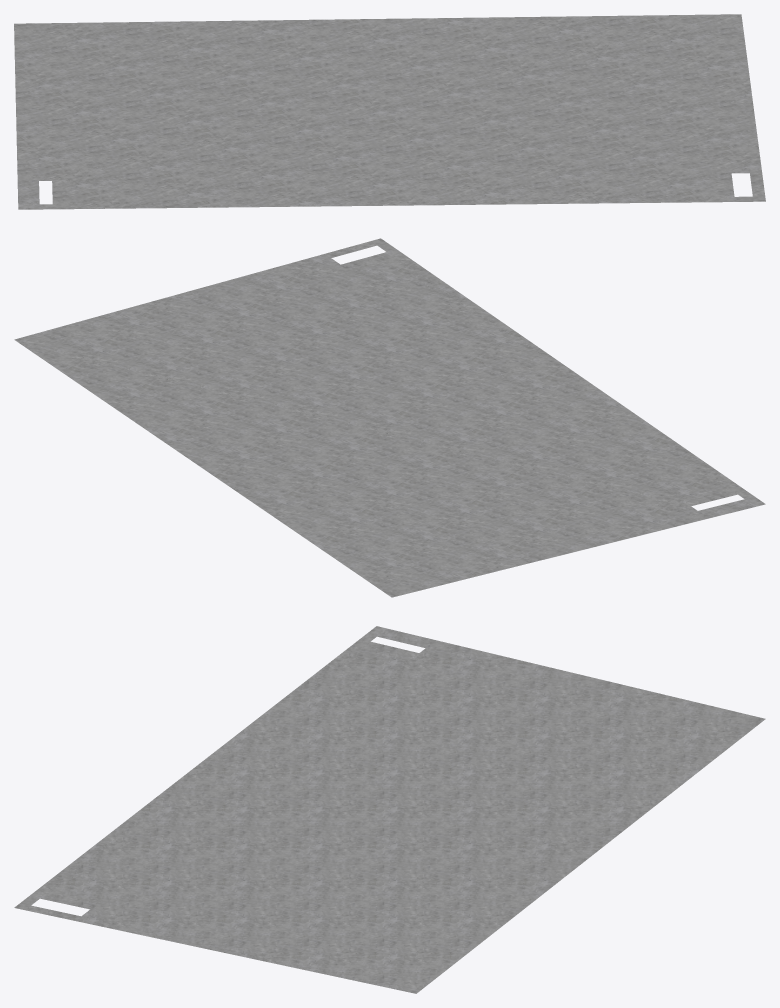
Rendered from dimian.gltf.
3 renders of one model, top to bottom at view 1: azimuth 30°, elevation 25°; view 2: azimuth 150°, elevation 25°; view 3: azimuth 270°, elevation 25°, orthographic. The views are drawn at different scales.
Visible parts, largest first — view 1: Line001; view 2: Line001; view 3: Line001.
Boxes of the visible parts, left/top/right/bottom form: Line001: left=14, top=14, right=765, bottom=209; Line001: left=14, top=238, right=765, bottom=597; Line001: left=14, top=626, right=765, bottom=993.
Size of the model in its own units: 1716 by 6.68e-06 by 1482.
Materials: 1 (1 with a texture image).
